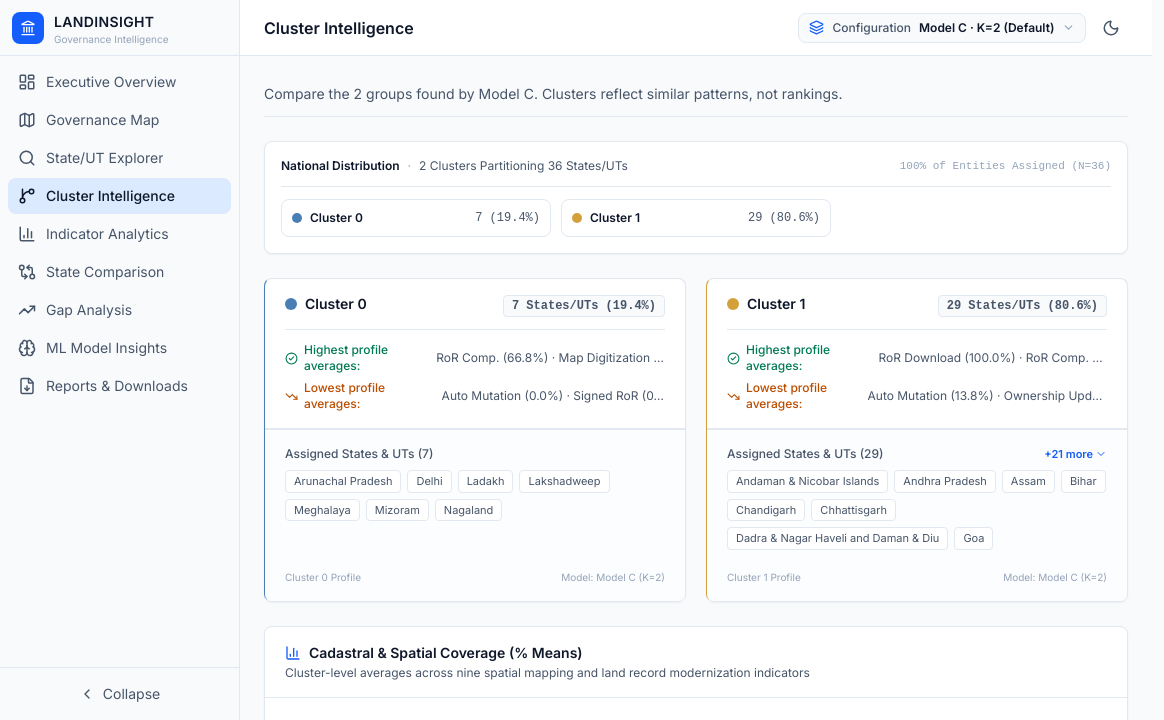
Scenario: Dashboard Functional Testing — All 9 Pages & Interactive Elements › Page 4: Cluster Intelligence (/clusters) › renders Cluster 0 vs Cluster 1 deep-dive cards and comprehensive comparative table
Check: the heading "Cluster Intelligence" is shown, box [264,16,414,40]
Check: the heading "Cluster 0" is shown, box [305,295,367,312]
Step 1. Click the button "+21 more" → point(1076, 454), box [1044,447,1107,461]
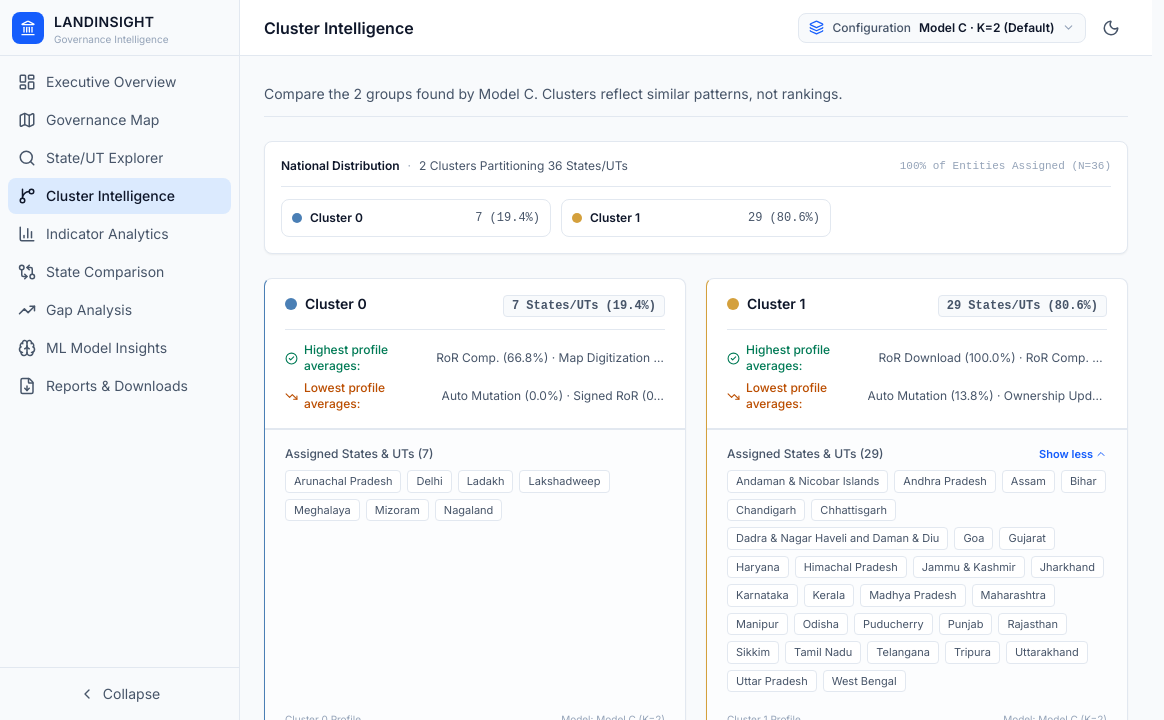
Check: the button "Show less" is shown
Step 2. Click the button "Show less" → point(1073, 454), box [1039,447,1107,461]
(page scrolled)
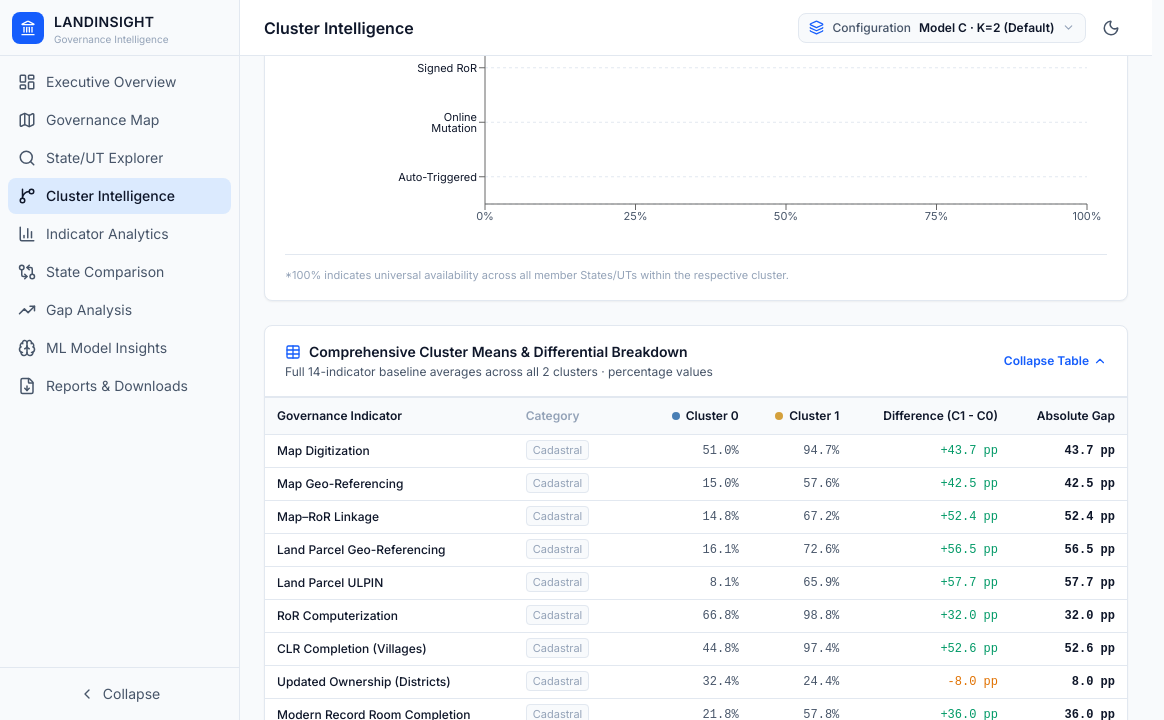
Check: the heading "Comprehensive Cluster Means & Differential Breakdown" is shown, box [309,342,688,362]
Check: the column heading "Difference (C1 - C0)" is shown, box [851,398,1010,434]
# Test Table collapse / expand toggle
Step 3. Click the button "Collapse Table" → point(1055, 360), box [1004,352,1107,368]
(page scrolled)
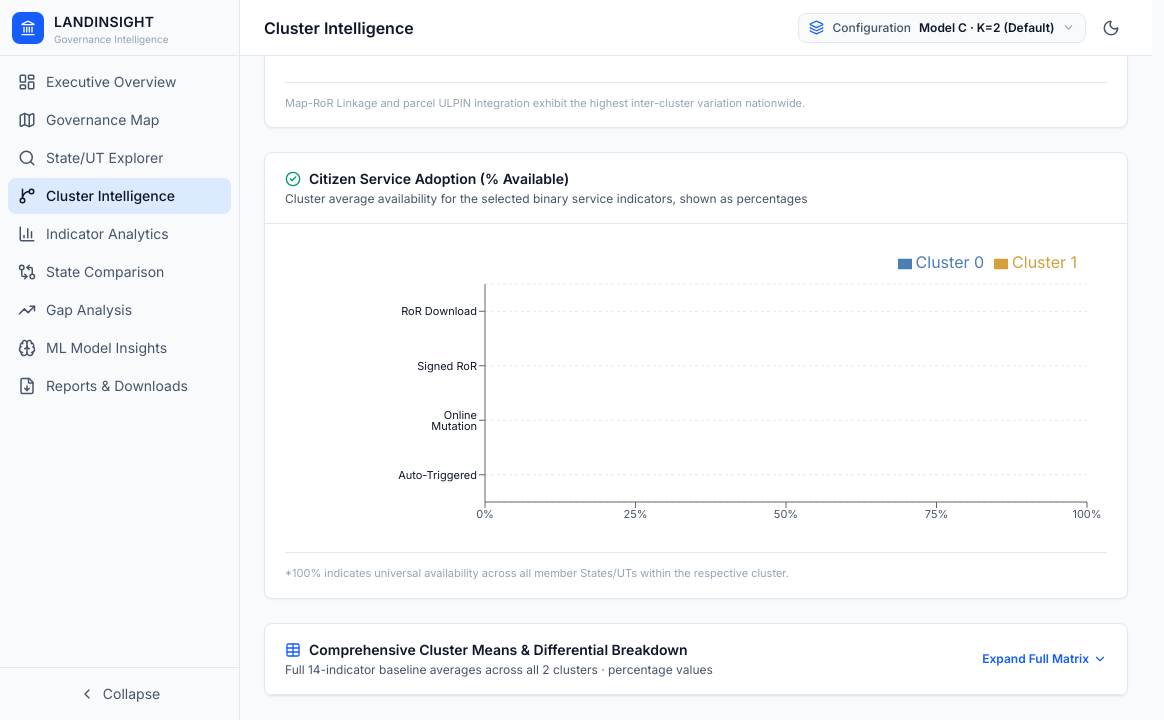
Check: the column heading "Difference (C1 - C0)" is gone
Step 4. Click the button "Expand Full Matrix" → point(1045, 658), box [982,650,1107,666]
(page scrolled)
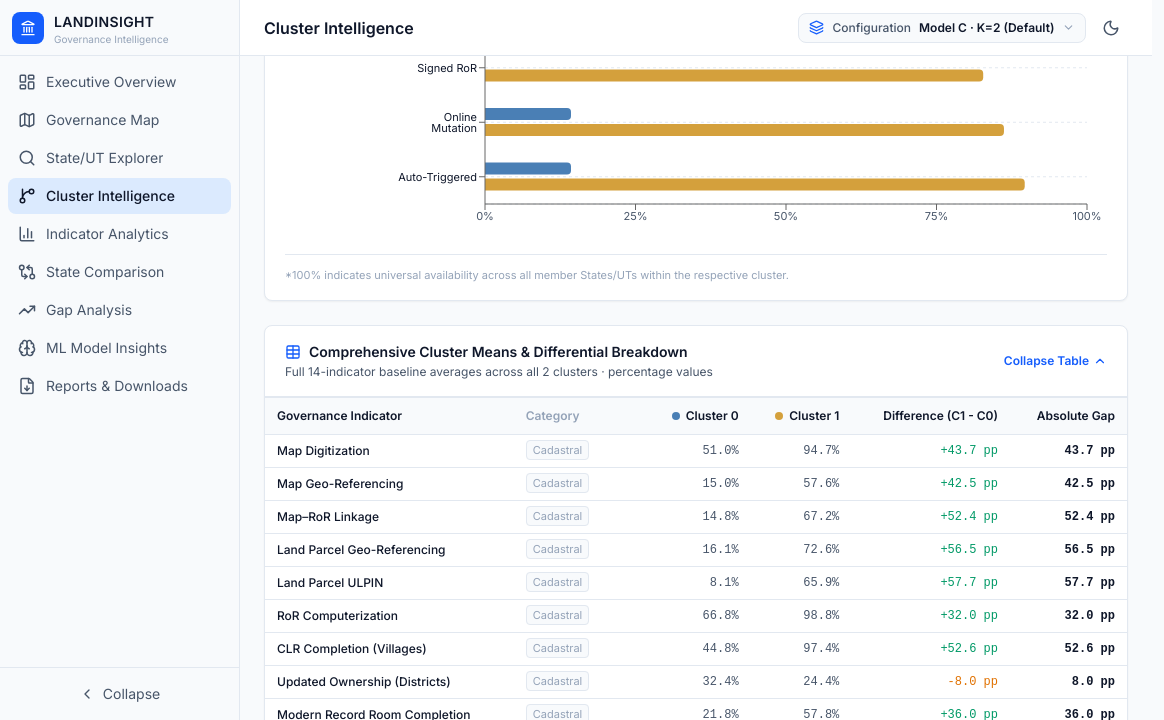
Check: the column heading "Difference (C1 - C0)" is shown, box [851,398,1010,434]
